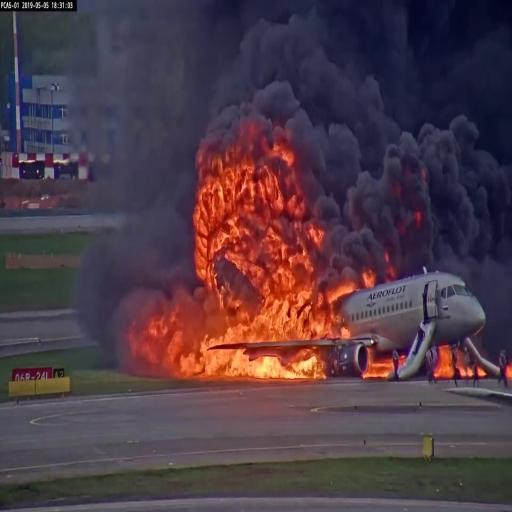fire: (204, 154, 290, 306), (206, 322, 320, 385), (268, 294, 349, 336)
smoke: (215, 0, 399, 142), (353, 132, 512, 280)
